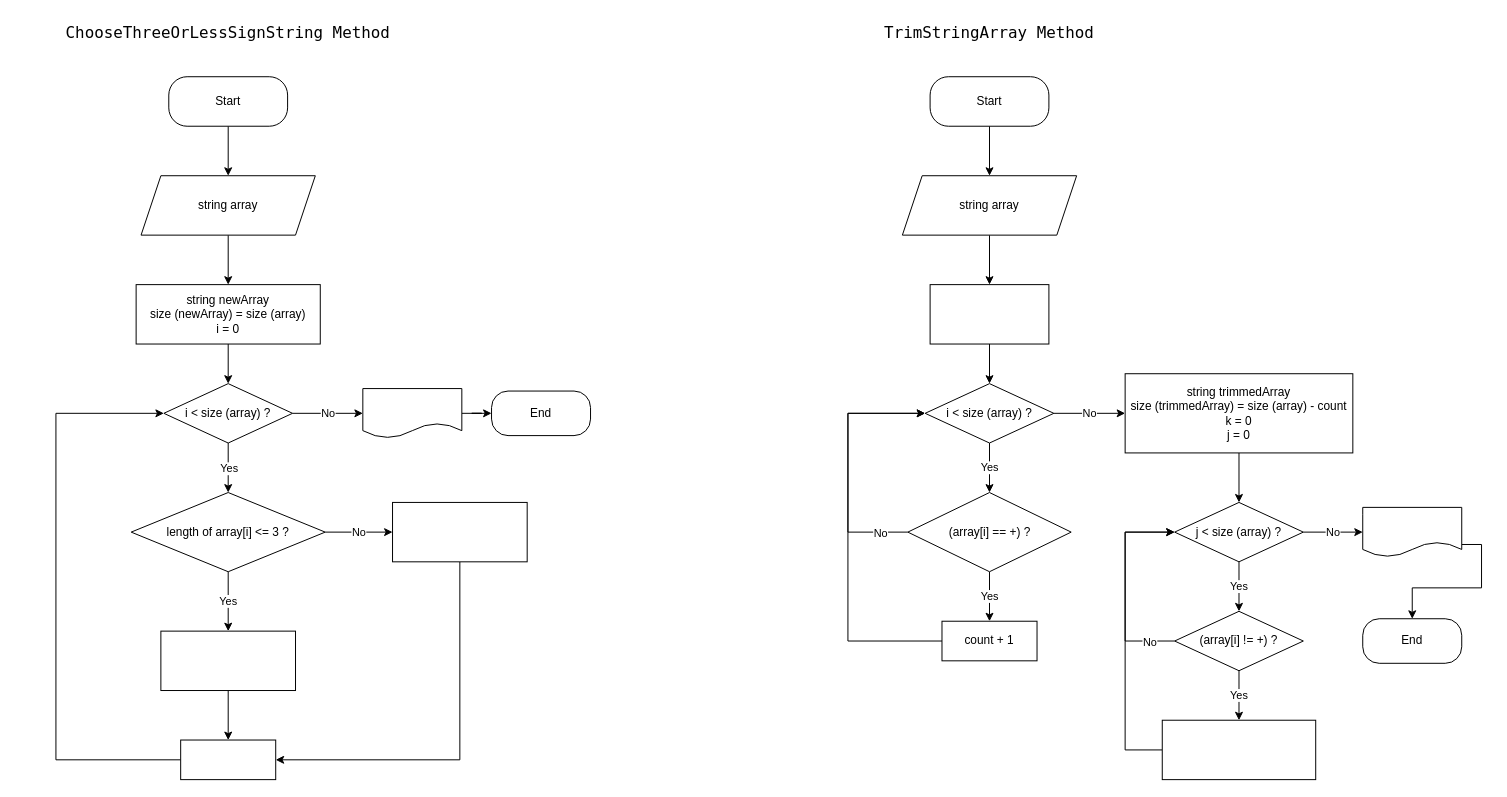
Image size: 1507x797. Some labels were removed from this diagram. Each missing label, with the box of its shape:
count = 0 i = 0: (929, 284, 1049, 344)
i + 1: (180, 739, 276, 780)
newArray: (362, 388, 462, 438)
newArray[i] = +: (392, 501, 527, 562)
newArray[i] = array[i]: (160, 630, 296, 691)
trimmedArray: (1362, 506, 1462, 557)
trimmedArray[k] = array[j] k + 1: (1161, 719, 1316, 780)
